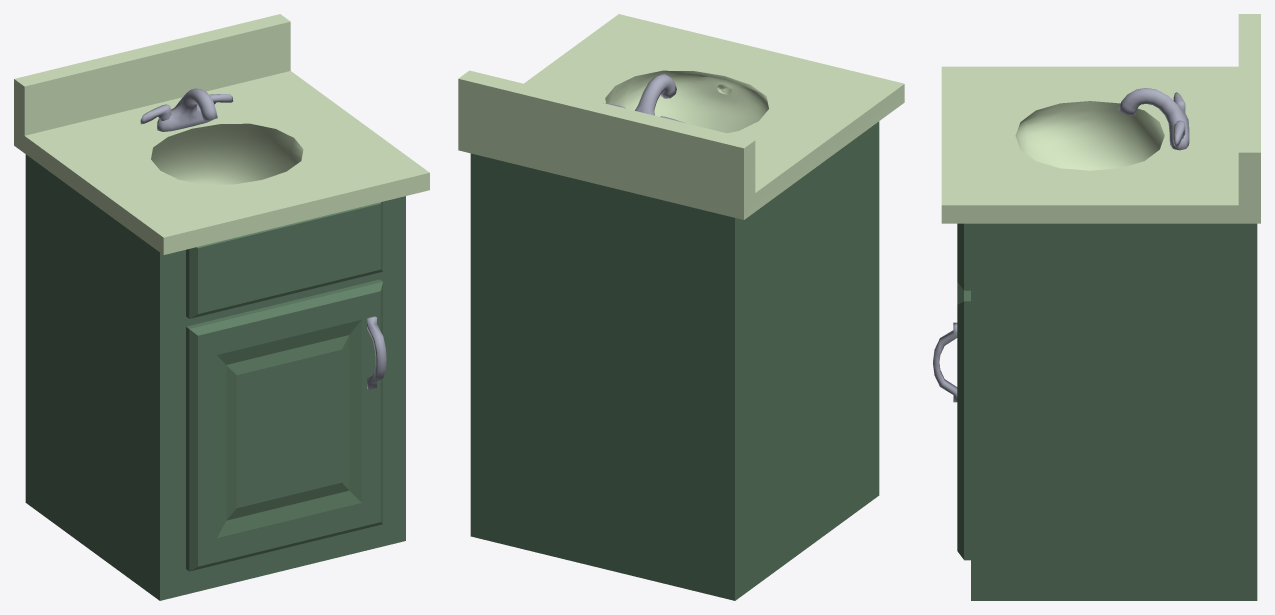
The model's file is bathroomSinkGreen.glb.
3 renders of one model, left to right at view 1: azimuth 30°, elevation 25°; view 2: azimuth 150°, elevation 25°; view 3: azimuth 270°, elevation 25°, orthographic. The views are drawn at different scales.
Visible parts, largest first — view 1: Cube.006, Cube.008, Cube.007, Cube.010, Cube.009; view 2: Cube.006, Cube.007, Cube.010; view 3: Cube.006, Cube.007, Cube.008, Cube.010, Cube.009.
Part boxes in pixels (left/top/right/bottom): Cube.006: left=25, top=154, right=405, bottom=600; Cube.008: left=186, top=201, right=382, bottom=571; Cube.007: left=14, top=14, right=429, bottom=254; Cube.010: left=157, top=88, right=217, bottom=131; Cube.009: left=367, top=316, right=386, bottom=389; Cube.006: left=470, top=121, right=879, bottom=600; Cube.007: left=458, top=14, right=904, bottom=219; Cube.010: left=635, top=74, right=676, bottom=115; Cube.006: left=971, top=223, right=1257, bottom=600; Cube.007: left=941, top=14, right=1260, bottom=223; Cube.008: left=957, top=223, right=970, bottom=560; Cube.010: left=1118, top=88, right=1189, bottom=150; Cube.009: left=933, top=322, right=957, bottom=402.
Size of the model in its own units: 2.16 by 3.3 by 2.16.
